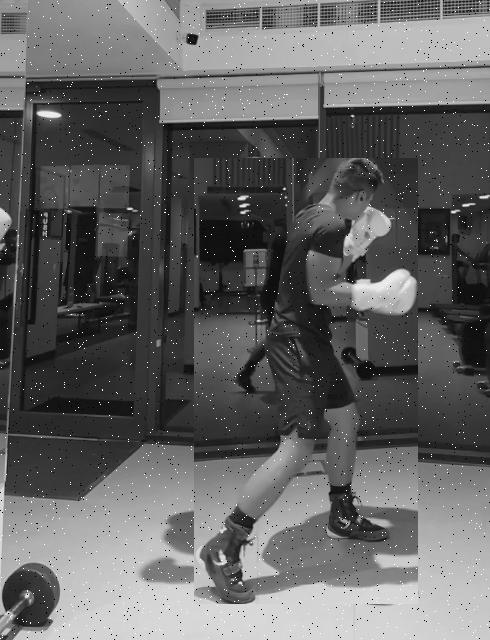punch: (194, 158, 418, 604)
